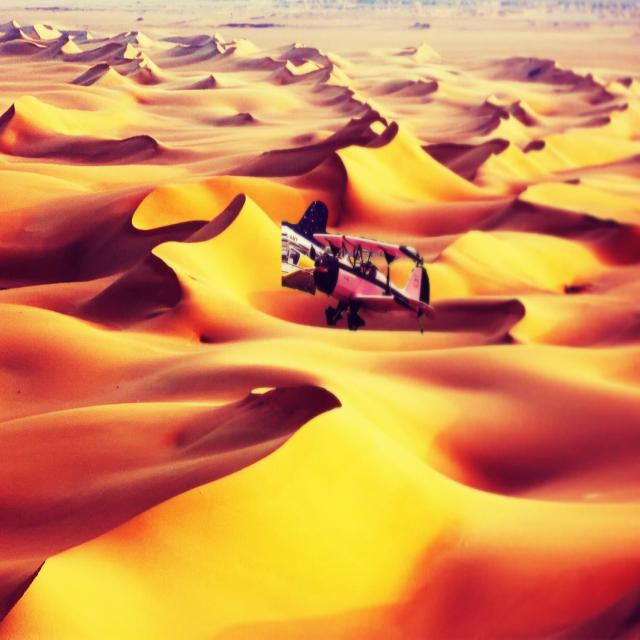airplane: (281, 198, 436, 334)
